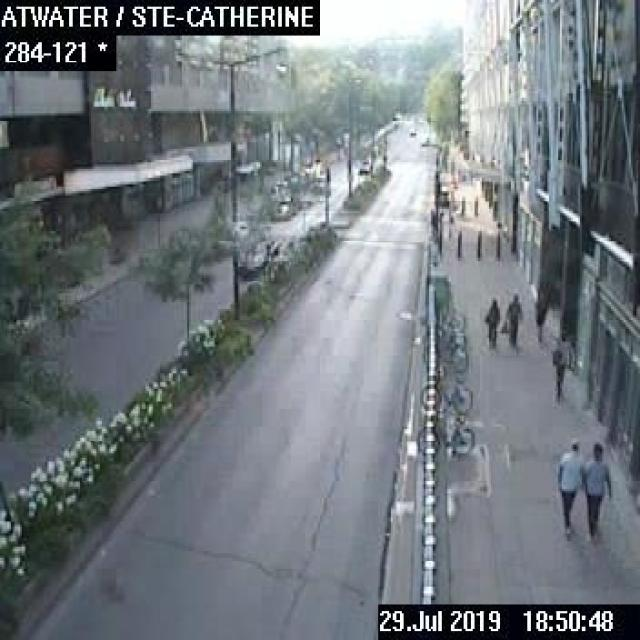pedestrian: (581, 438, 613, 539), (558, 436, 582, 538), (551, 328, 573, 402), (499, 292, 522, 347), (482, 297, 499, 347), (357, 158, 371, 173)
vehicle: (237, 237, 277, 272)
